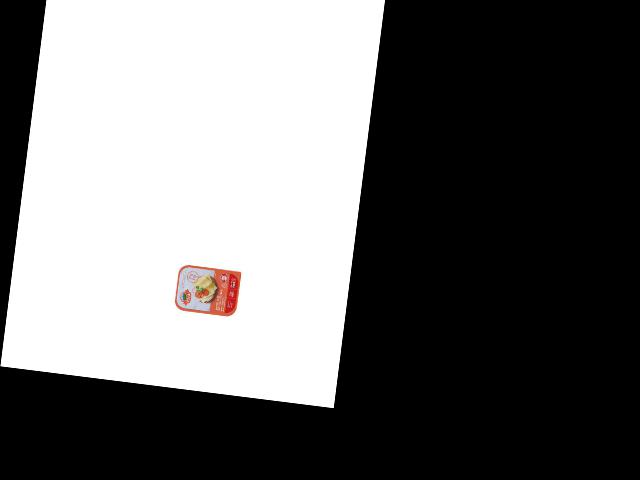cheese: (171, 262, 245, 320)
